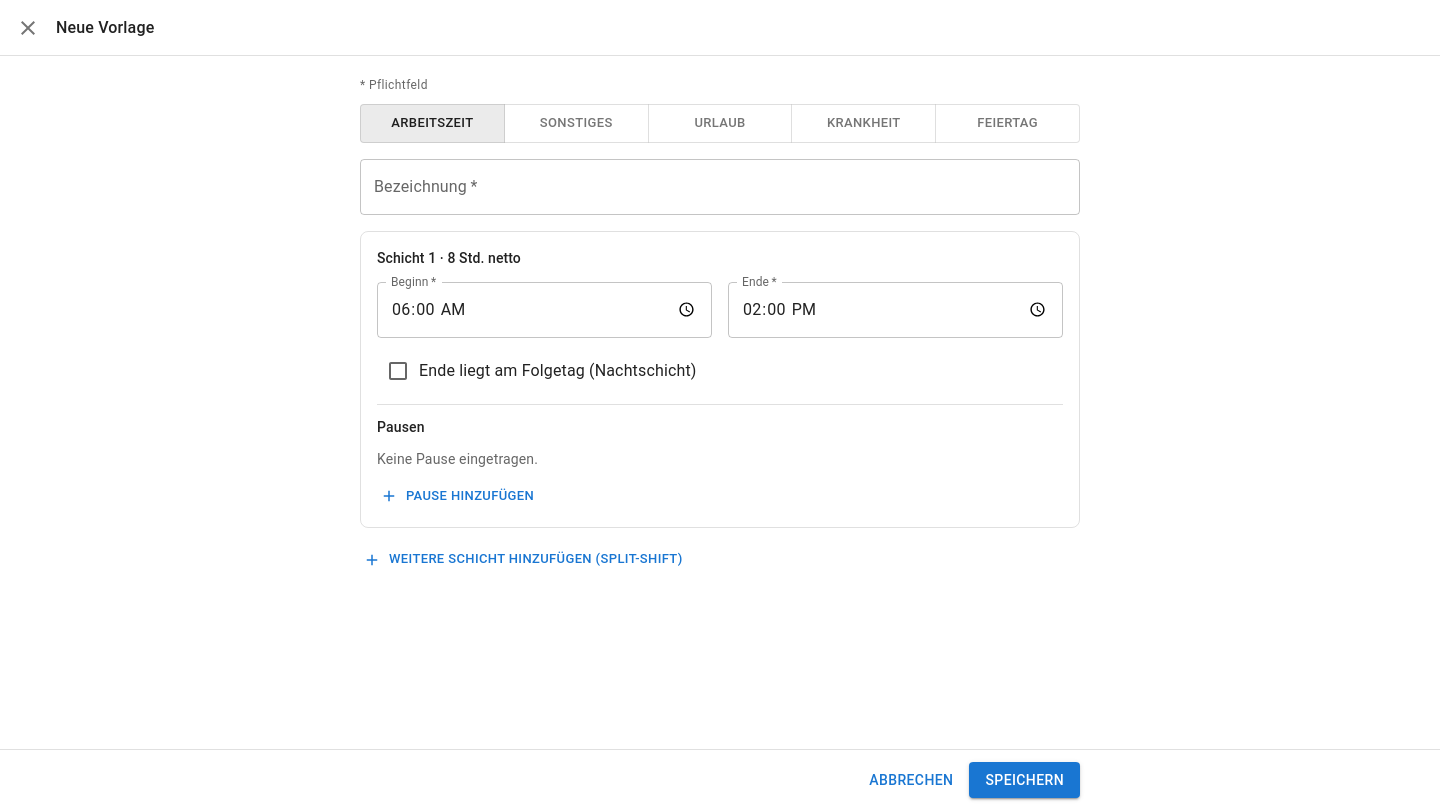
Test case: ShiftTemplateDialog › Sonstiges mode › reports the missing Bezeichnung once (not twice), focuses it and saves nothing
Click the button "Sonstiges". click: (576, 123)
box: [504, 104, 649, 143]
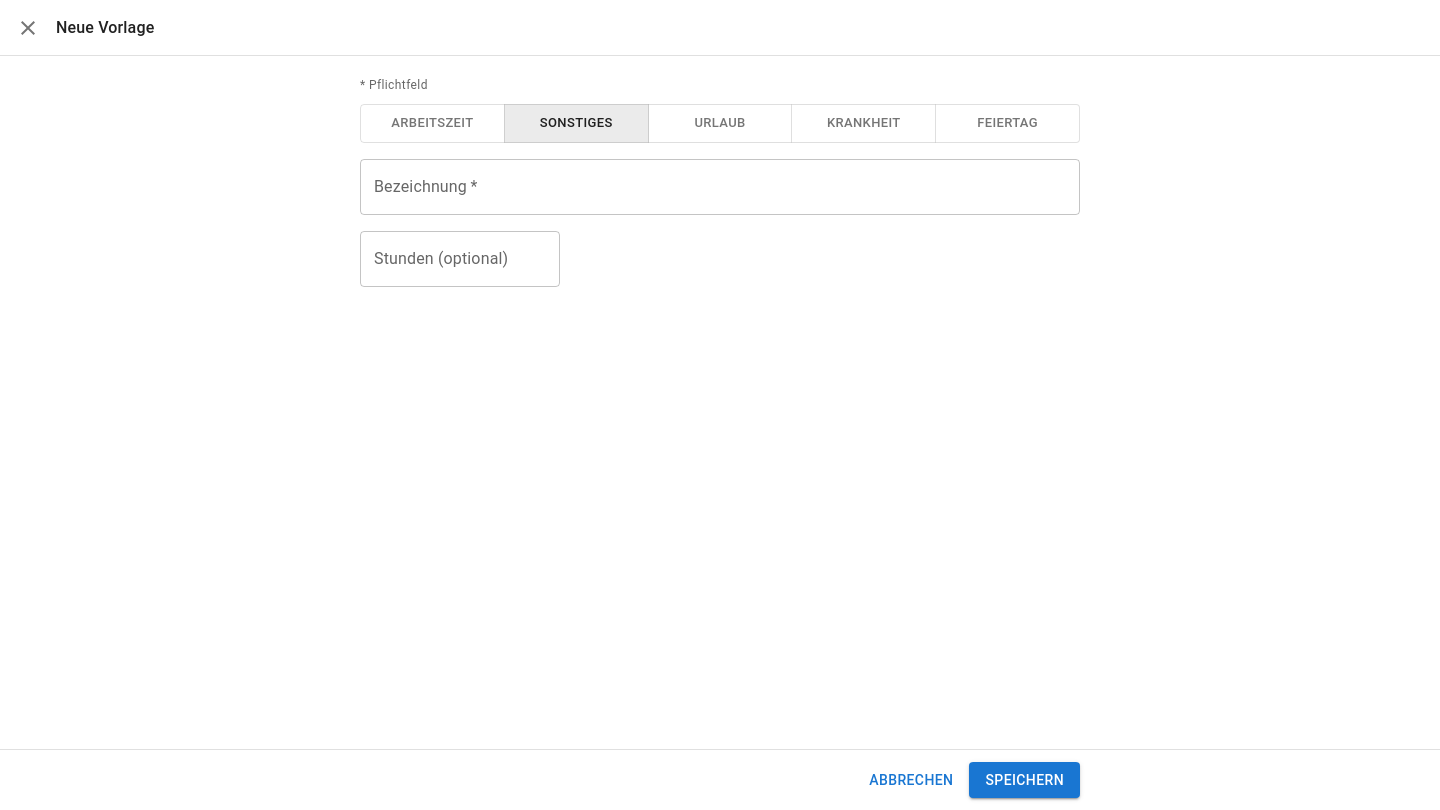
Click the button "Speichern". click: (1025, 780)
box: [969, 762, 1080, 798]
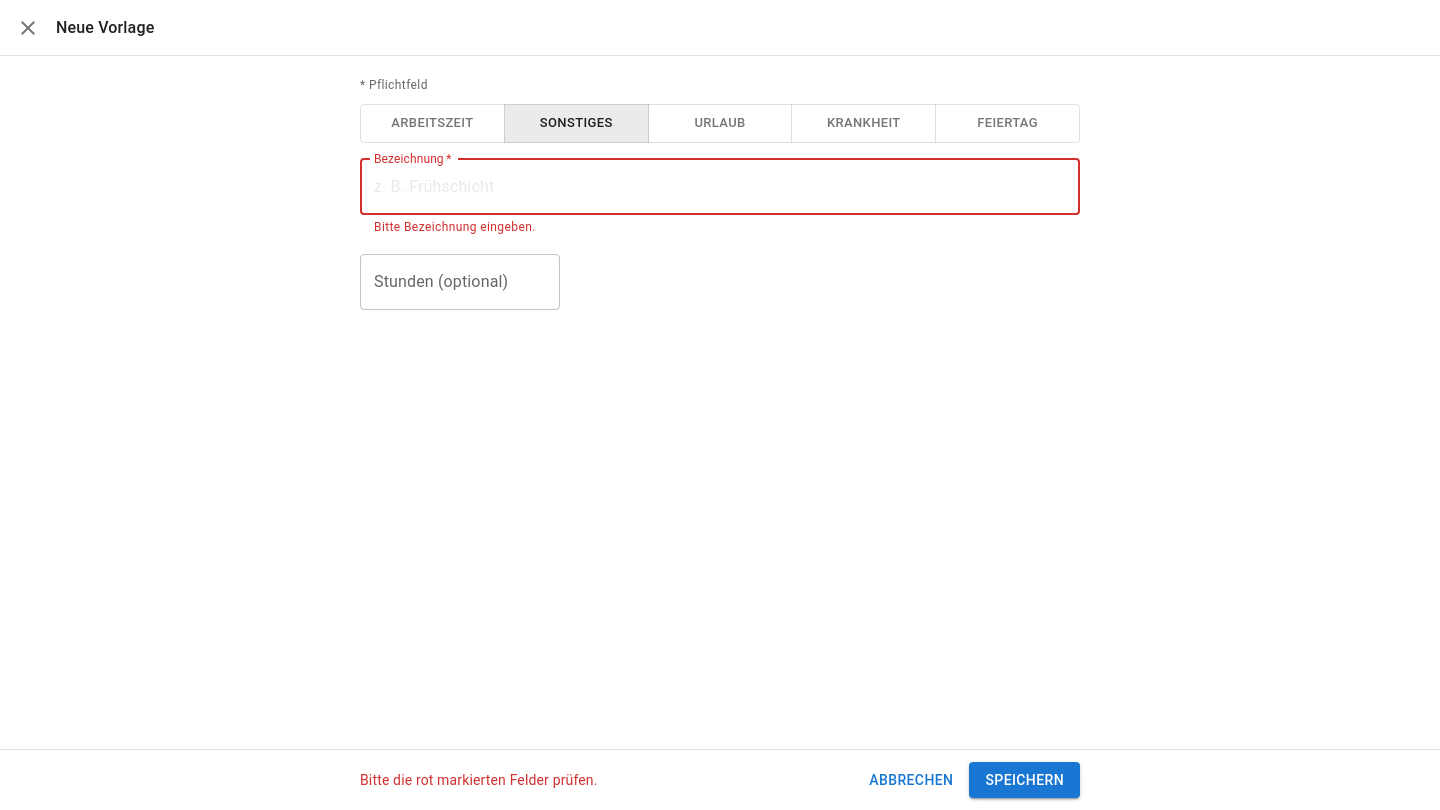
Result: the text "Bitte Bezeichnung eingeben." is shown once at [374, 220, 536, 234]
